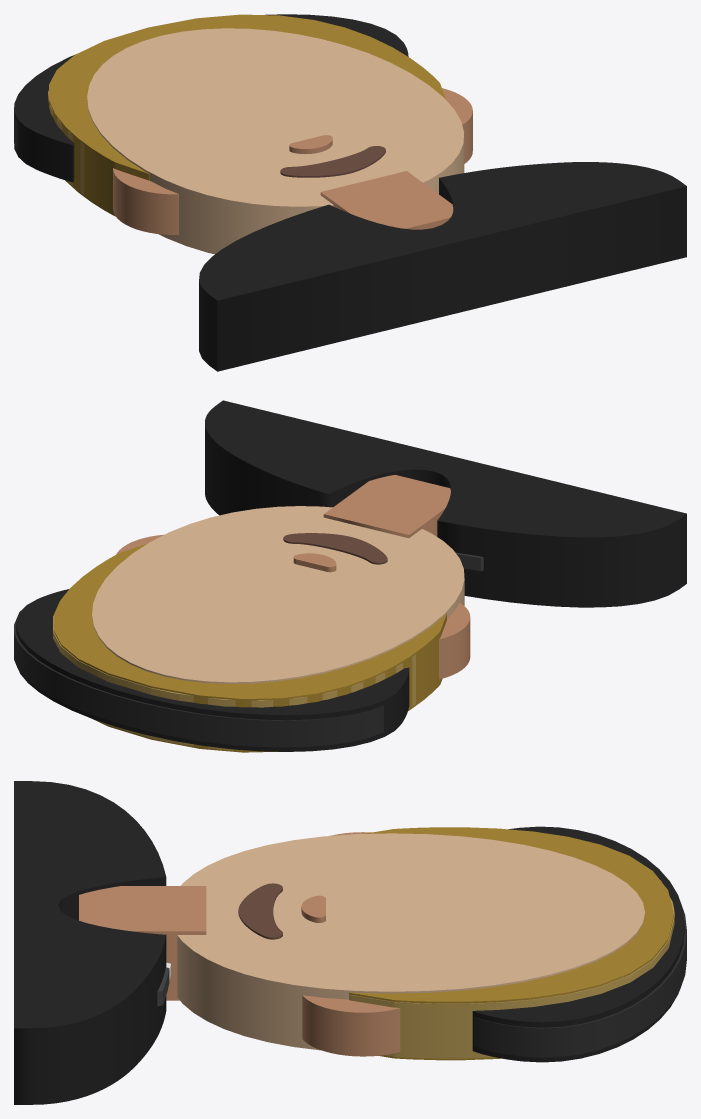
File: emoji_u1f468_1f3fc_200d_2708.glb
The picture shows the model from 3 angles, top to bottom: view 1: azimuth 30°, elevation 25°; view 2: azimuth 150°, elevation 25°; view 3: azimuth 270°, elevation 25°; orthographic projection. The views are drawn at different scales.
Visible parts, largest first — view 1: emoji_u1f468_1f3fc_200d_2708; view 2: emoji_u1f468_1f3fc_200d_2708; view 3: emoji_u1f468_1f3fc_200d_2708.
Part boxes in pixels (x1,y1,x2,y2): emoji_u1f468_1f3fc_200d_2708: (14, 14, 686, 371); emoji_u1f468_1f3fc_200d_2708: (14, 400, 686, 752); emoji_u1f468_1f3fc_200d_2708: (14, 781, 686, 1104).
Bounding box in the file's own units: 0.029 × 0.0042 × 0.0334.
